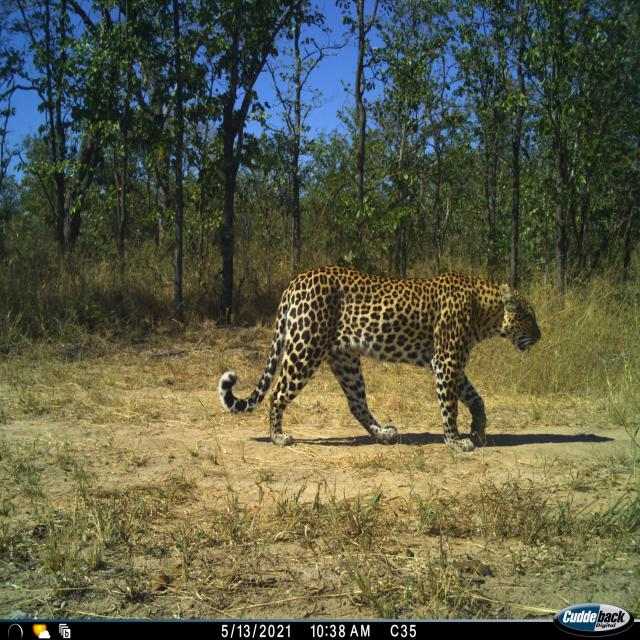Leopard: (224, 268, 539, 456)
